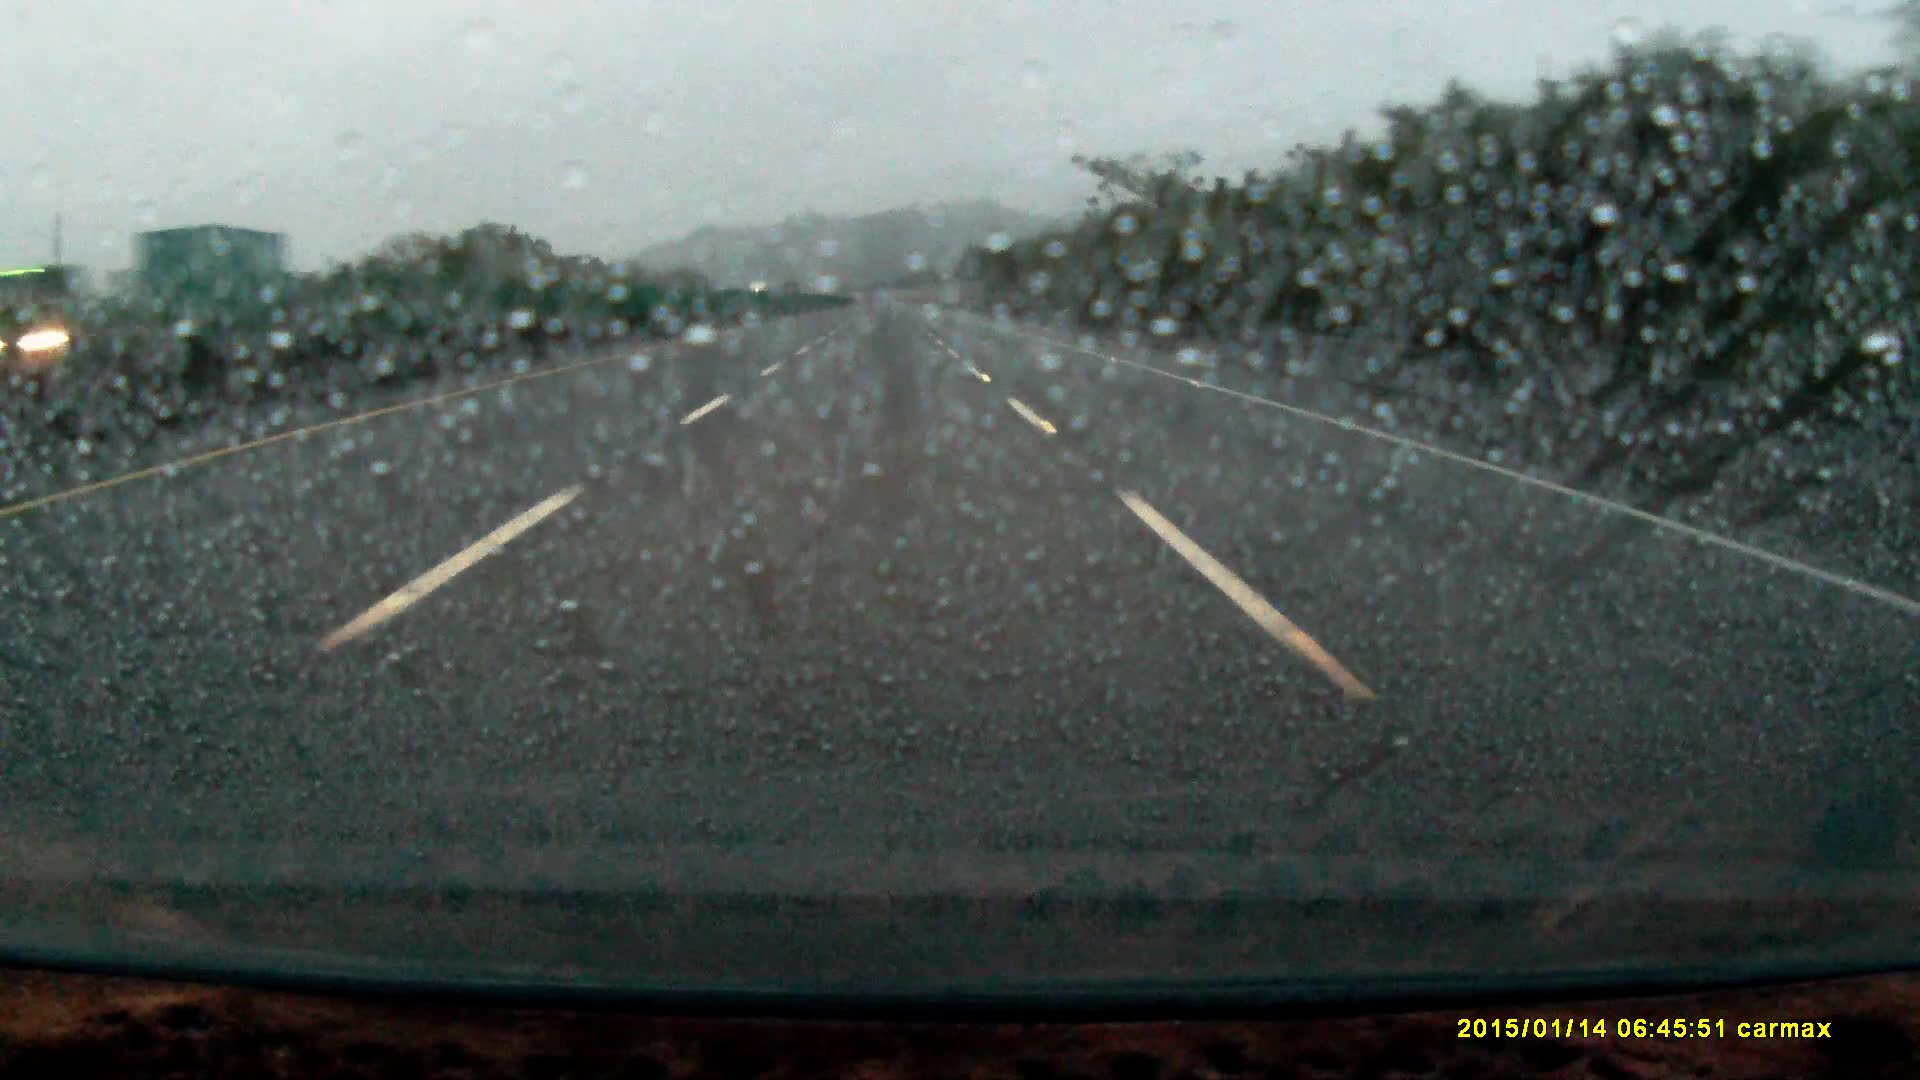vehicle: (13, 232, 310, 413)
